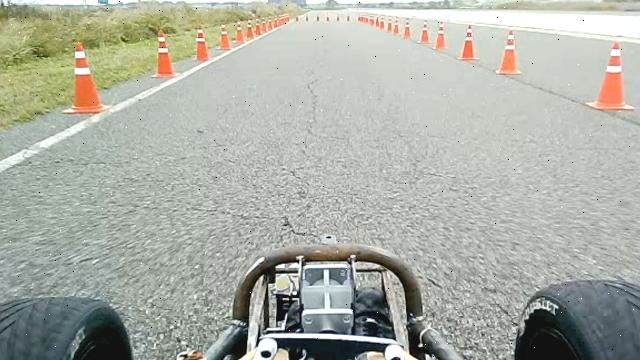red cone: (61, 41, 110, 114), (585, 40, 635, 111), (150, 29, 179, 79), (495, 28, 521, 75), (458, 24, 480, 60), (192, 24, 212, 62), (432, 20, 448, 50), (216, 23, 232, 50), (417, 19, 431, 43), (234, 22, 246, 43), (402, 19, 412, 40), (245, 22, 255, 40), (392, 16, 399, 35)
